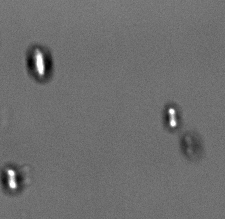Dead Cell: (181, 132, 204, 159)
Living Cell: (25, 43, 54, 83), (1, 166, 24, 194), (163, 103, 182, 131)
